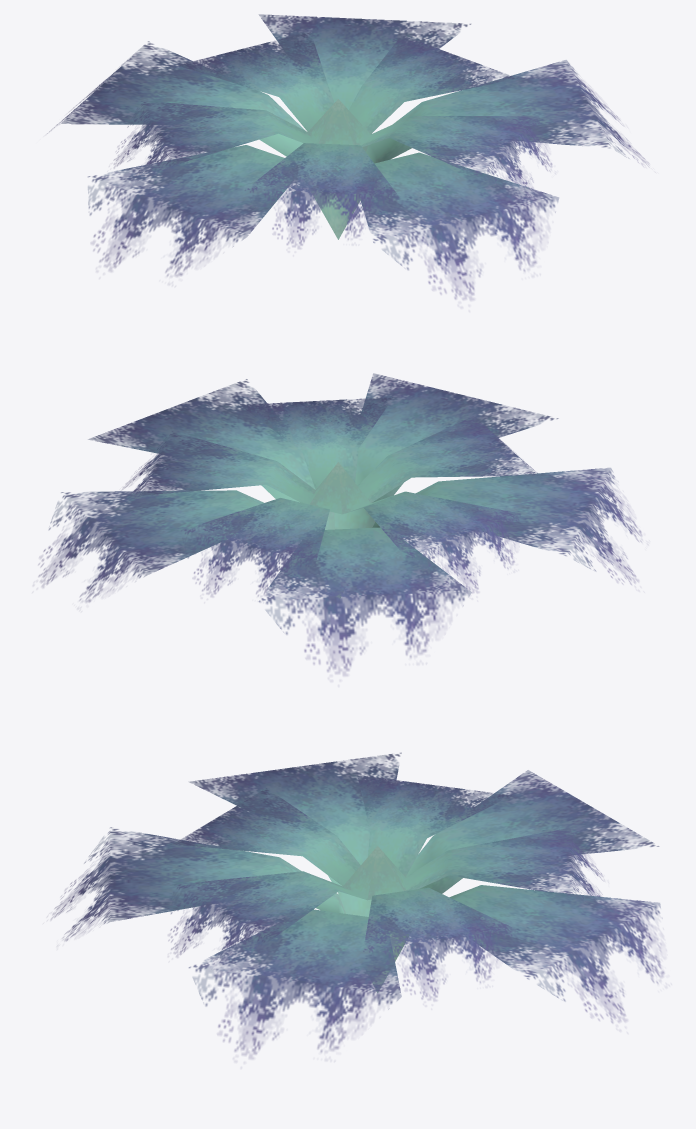
Rendered from Flower.glb.
3 renders of one model, top to bottom at view 1: azimuth 30°, elevation 25°; view 2: azimuth 150°, elevation 25°; view 3: azimuth 270°, elevation 25°, orthographic. The views are drawn at different scales.
Visible parts, largest first — view 1: Cylinder; view 2: Cylinder; view 3: Cylinder.
Part boxes in pixels (x1,y1,x2,y2): Cylinder: (47, 14, 648, 300); Cylinder: (38, 373, 641, 675); Cylinder: (51, 752, 664, 1061).
Bounding box in the file's own units: 14.59 × 3.39 × 13.88.
1 material, 1 textured.
